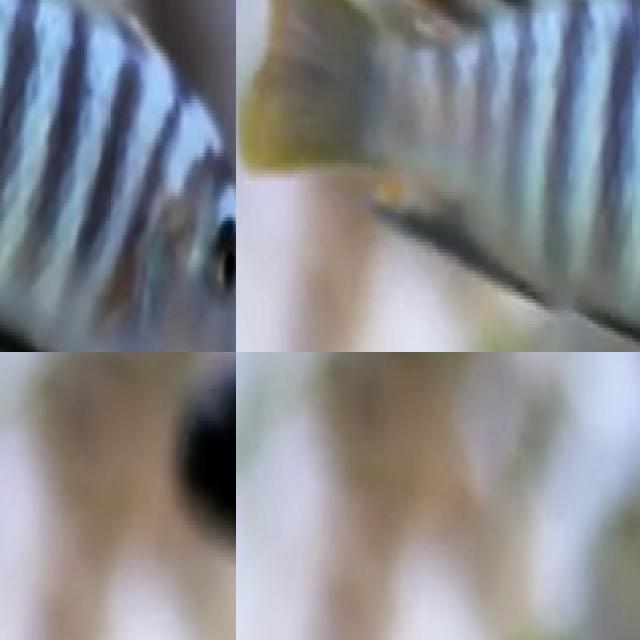fish: (0, 0, 236, 352)
